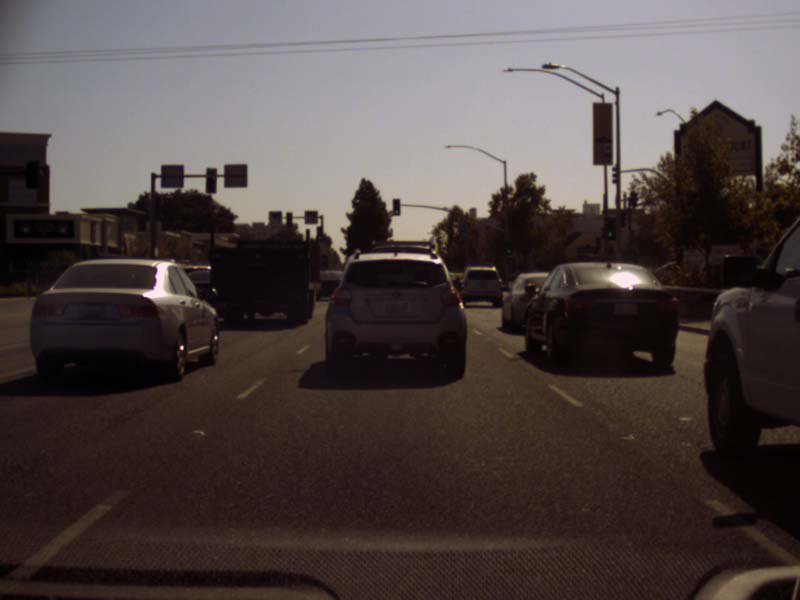Green: (603, 215, 616, 240), (393, 198, 400, 215), (505, 241, 512, 255), (316, 227, 322, 241)
